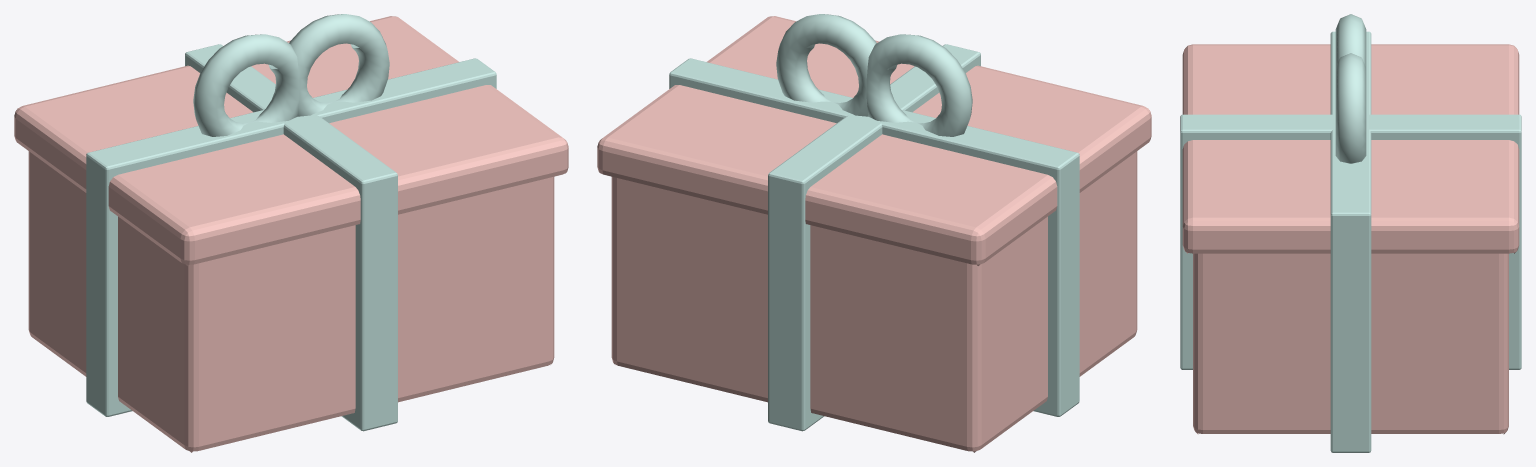
The model's file is box_coral.glb.
The picture shows the model from 3 angles, left to right: view 1: azimuth 30°, elevation 25°; view 2: azimuth 150°, elevation 25°; view 3: azimuth 270°, elevation 25°; orthographic projection. The views are drawn at different scales.
Visible parts, largest first — view 1: box_coral_coral, box_coral_mint; view 2: box_coral_coral, box_coral_mint; view 3: box_coral_coral, box_coral_mint.
Boxes of the visible parts, <box> form: box_coral_coral: <box>14,16,568,452</box>; box_coral_mint: <box>86,14,496,431</box>; box_coral_coral: <box>597,16,1151,452</box>; box_coral_mint: <box>669,14,1079,431</box>; box_coral_coral: <box>1182,44,1519,434</box>; box_coral_mint: <box>1180,14,1521,452</box>.
Size of the model in its own units: 0.85 by 0.6985 by 0.67.
